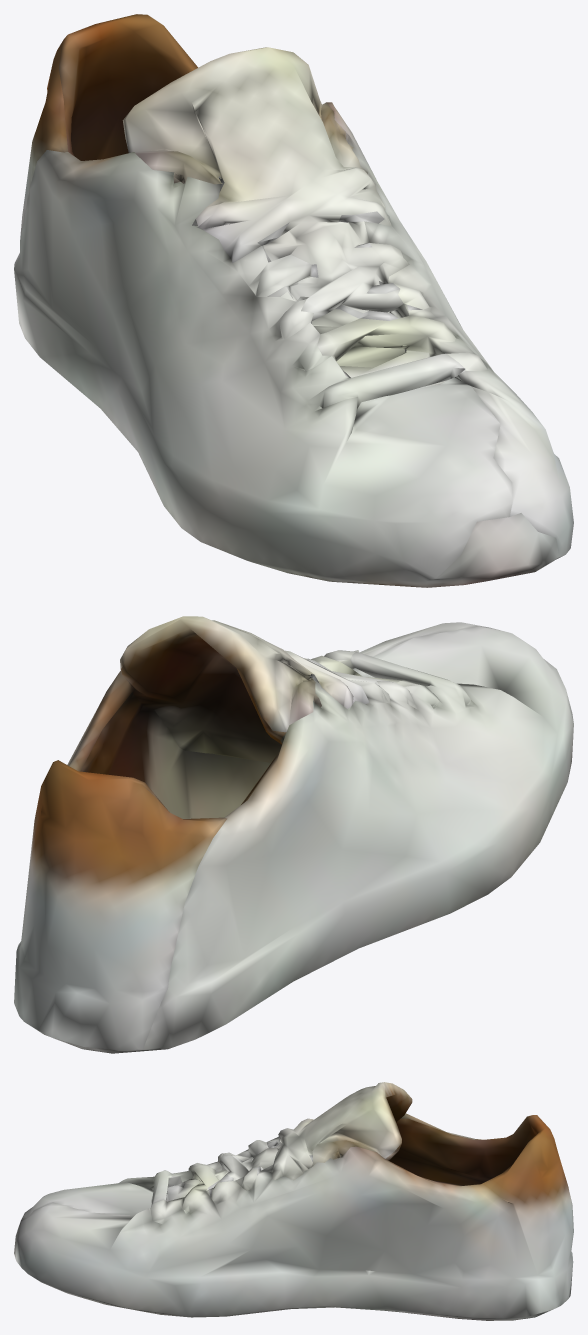
The model's file is Reebok_SH_NEWPORT_LOW-medium.glb.
The picture shows the model from 3 angles, top to bottom: view 1: azimuth 30°, elevation 25°; view 2: azimuth 150°, elevation 25°; view 3: azimuth 270°, elevation 25°; orthographic projection. The views are drawn at different scales.
Parts seen in each view (by area): view 1: Reebok_SH_NEWPORT_LOW; view 2: Reebok_SH_NEWPORT_LOW; view 3: Reebok_SH_NEWPORT_LOW.
Boxes of the visible parts, box(x1,y1,x2,y2) form: Reebok_SH_NEWPORT_LOW: box(14, 14, 573, 587); Reebok_SH_NEWPORT_LOW: box(14, 616, 573, 1053); Reebok_SH_NEWPORT_LOW: box(14, 1082, 573, 1320).
Bounding box in the file's own units: 0.1041 × 0.1209 × 0.2865.
Materials: 1 (1 with a texture image).
